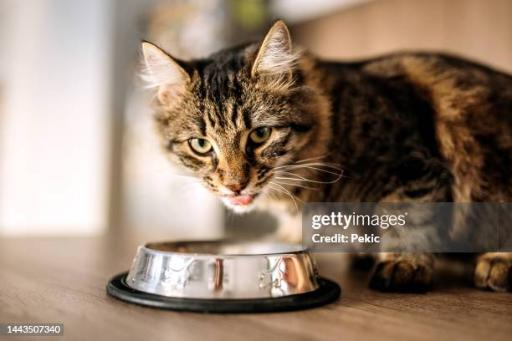cat_eating: (108, 20, 511, 313)
